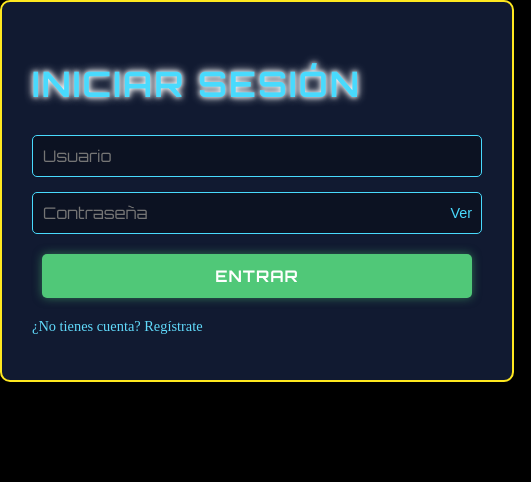
Test: Componente Auth › 6. Muestra error en login fallido
This screenshot has width=531, height=482.
Type "wrong" into the field with placeholder "Usuario" at (257, 156), box [32,135,482,177]
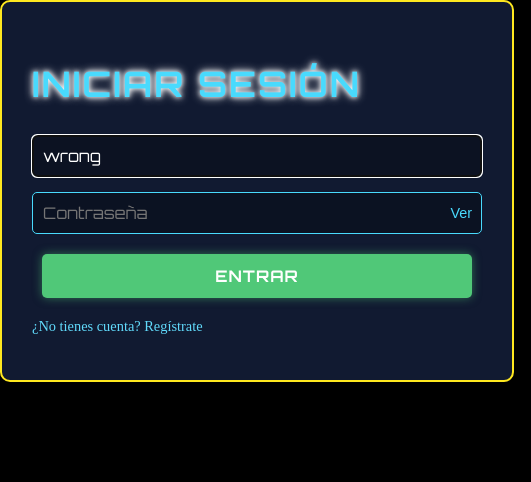
Type "wrong" into the password field with placeholder "Contraseña" at (257, 213), box [32,192,482,234]
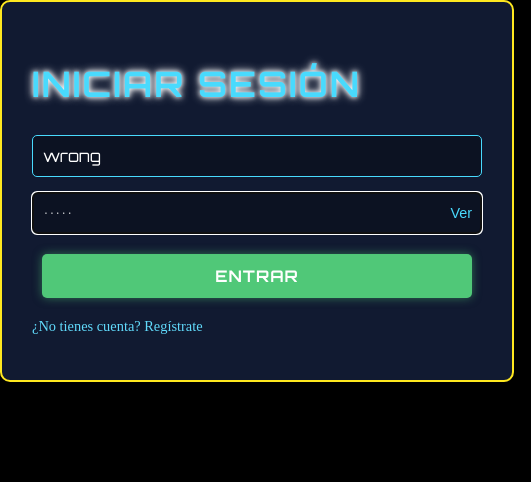
Click the button "Entrar" at (257, 276), box [42,254,472,298]
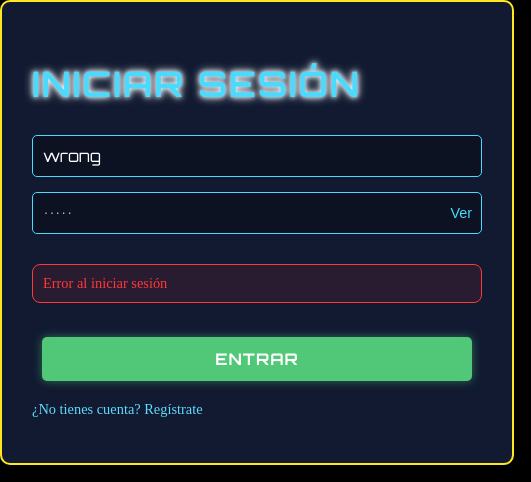
Expected: the text "Error al iniciar sesión" is shown, [32,264,482,303]
